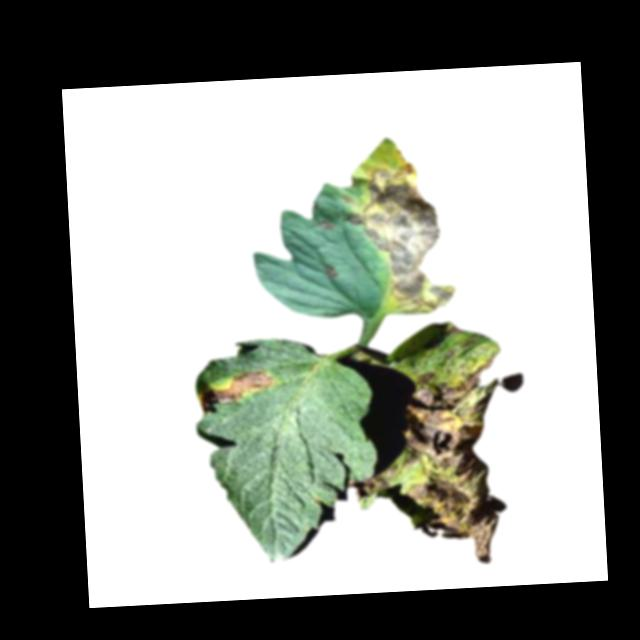Early_blight: (404, 366, 513, 569), (340, 159, 458, 318), (207, 369, 281, 414), (347, 476, 391, 496), (320, 259, 339, 282), (315, 218, 334, 231)
